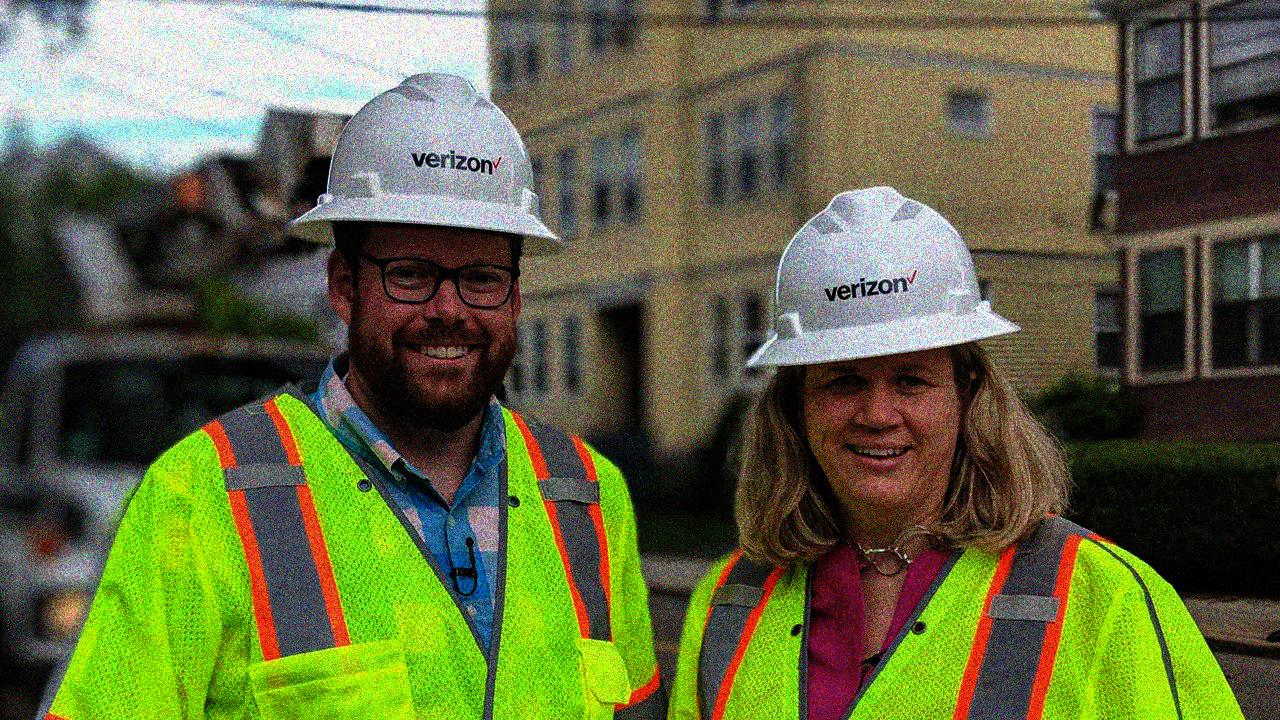helmet: (287, 69, 572, 425), (743, 181, 1021, 521)
